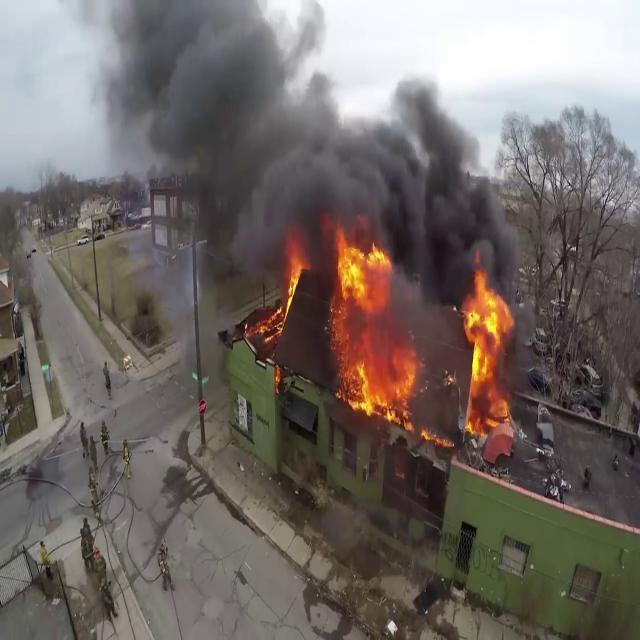Fire: (328, 228, 421, 424), (458, 265, 518, 434), (258, 244, 304, 344)
Smoke: (99, 0, 516, 291)
